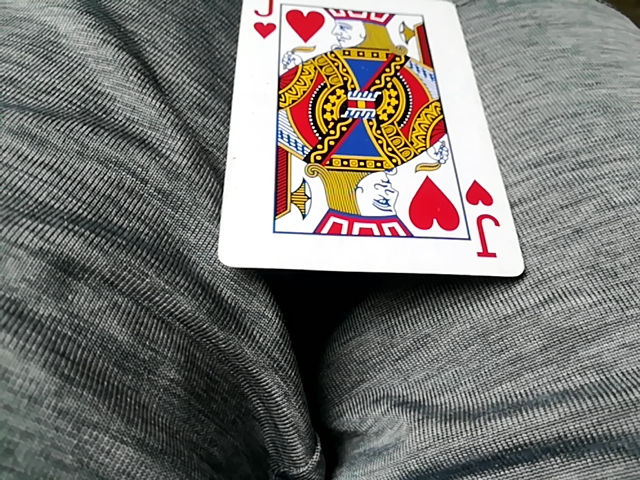hx j: (226, 0, 524, 284)
